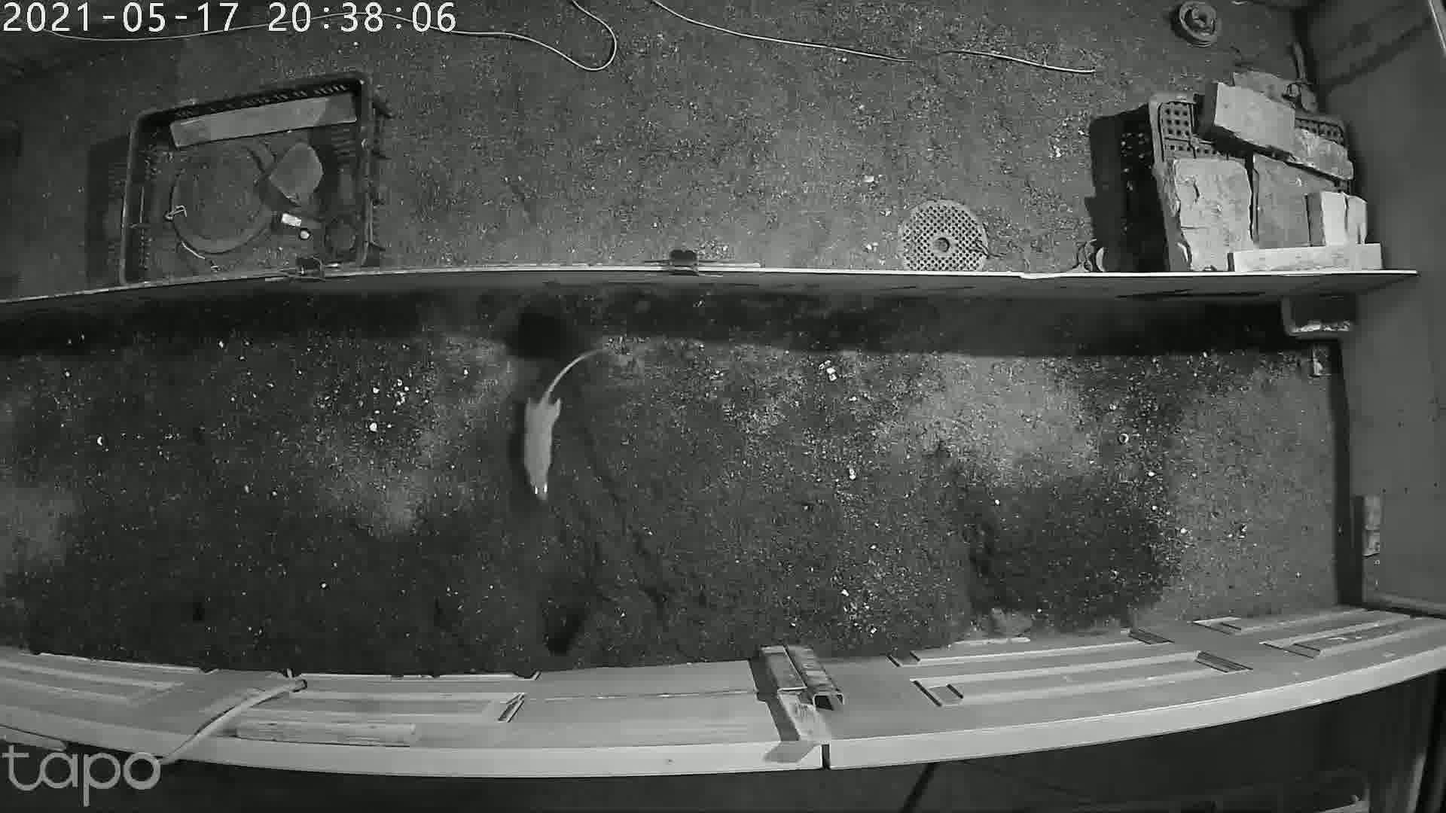rat: (524, 314, 615, 518)
